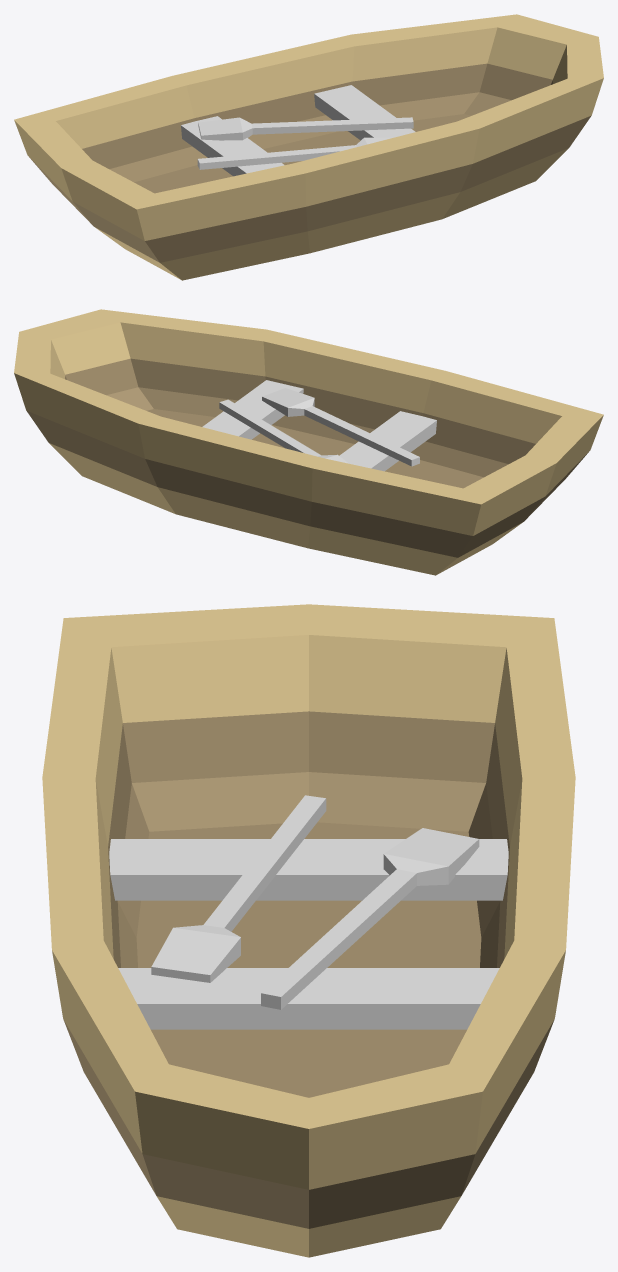
The model's file is Boat.fbx.
3 renders of one model, top to bottom at view 1: azimuth 30°, elevation 25°; view 2: azimuth 150°, elevation 25°; view 3: azimuth 270°, elevation 25°, orthographic. The views are drawn at different scales.
Visible parts, largest first — view 1: Cube.029, Cube.032, Cube.031, Cube.030, Cube.033; view 2: Cube.029, Cube.030, Cube.033, Cube.031, Cube.032; view 3: Cube.029, Cube.031, Cube.030, Cube.032, Cube.033.
Part boxes in pixels (x1,y1,x2,y2): Cube.029: (14, 14, 603, 280); Cube.032: (198, 117, 413, 140); Cube.031: (314, 85, 415, 140); Cube.030: (181, 116, 284, 176); Cube.033: (197, 137, 392, 169); Cube.029: (14, 309, 603, 575); Cube.030: (339, 411, 436, 471); Cube.033: (262, 388, 419, 466); Cube.031: (202, 380, 303, 439); Cube.032: (219, 399, 348, 463); Cube.029: (42, 604, 575, 1257); Cube.031: (118, 968, 499, 1029); Cube.030: (109, 839, 508, 900); Cube.032: (261, 828, 479, 1009); Cube.033: (151, 795, 326, 982).
Size of the model in its own units: 603 by 114 by 259.
